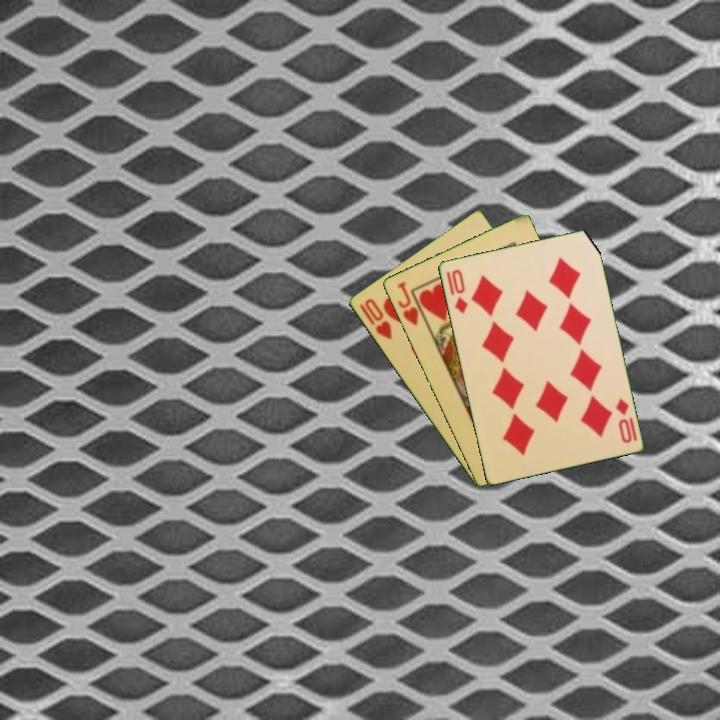10d: (612, 395, 640, 446), (448, 266, 470, 317)
10h: (360, 295, 395, 343)
Jh: (394, 278, 430, 329)
